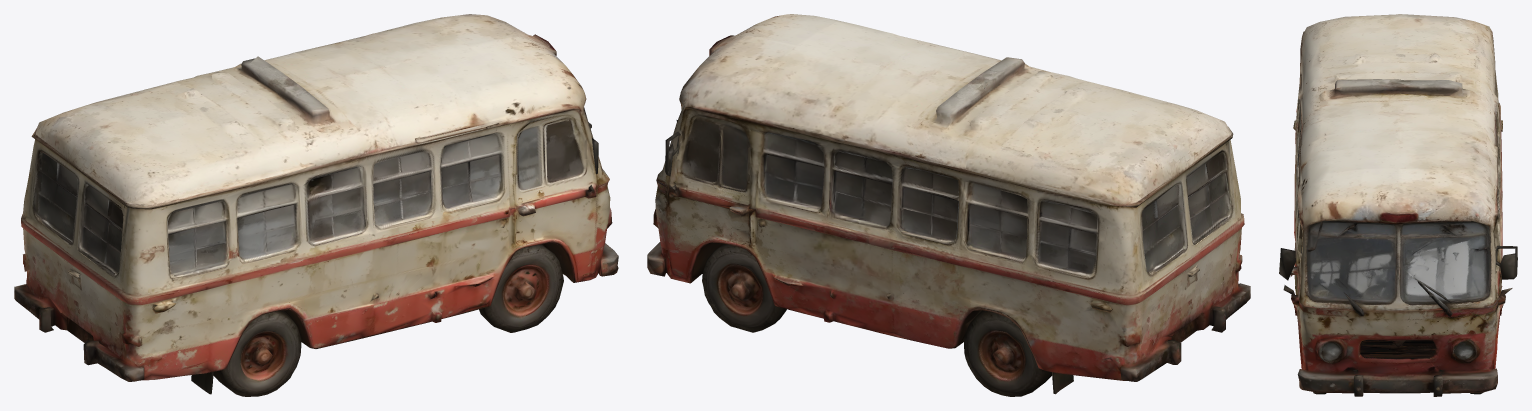
The model's file is ul_bus.glb.
The picture shows the model from 3 angles, left to right: view 1: azimuth 30°, elevation 25°; view 2: azimuth 150°, elevation 25°; view 3: azimuth 270°, elevation 25°; orthographic projection. The views are drawn at different scales.
Visible parts, largest first — view 1: tripo_node_3ce3dfe6-d569-4d0e-9006-fa97540593c3; view 2: tripo_node_3ce3dfe6-d569-4d0e-9006-fa97540593c3; view 3: tripo_node_3ce3dfe6-d569-4d0e-9006-fa97540593c3.
Part boxes in pixels (<box>): tripo_node_3ce3dfe6-d569-4d0e-9006-fa97540593c3: <box>14,14,618,396</box>; tripo_node_3ce3dfe6-d569-4d0e-9006-fa97540593c3: <box>647,14,1250,396</box>; tripo_node_3ce3dfe6-d569-4d0e-9006-fa97540593c3: <box>1279,14,1517,396</box>.
Bounding box in the file's own units: 1 × 0.4829 × 0.4607.
Materials: 1 (1 with a texture image).
